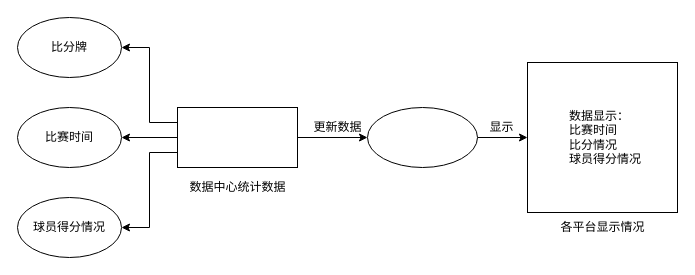
Image size: 695x275. Some labels were removed from this diagram. The shapes that lost their labels are listed below. From the top down, each one's centre as x and y in pixels, then its label:
point 237,137: 斯台普斯中心
point 422,137: 比赛数据对象
